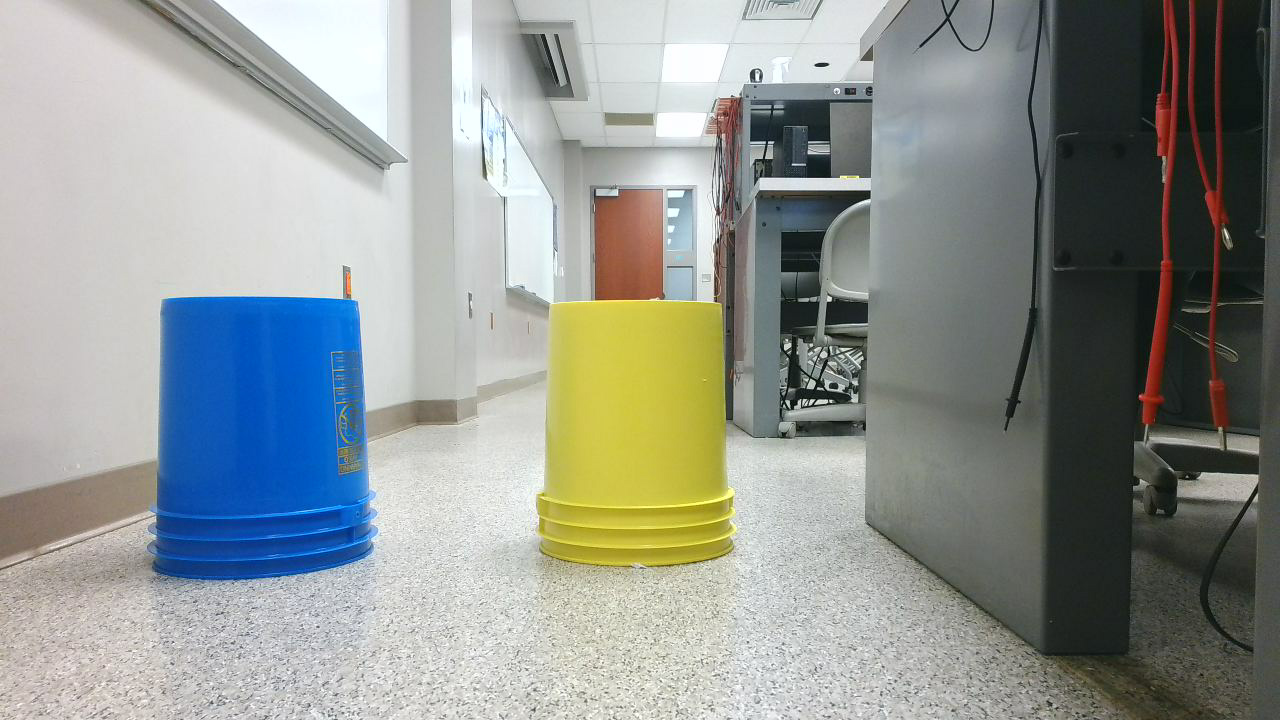blue_bucket: (148, 297, 387, 591)
yellow_bucket: (535, 300, 747, 578)
